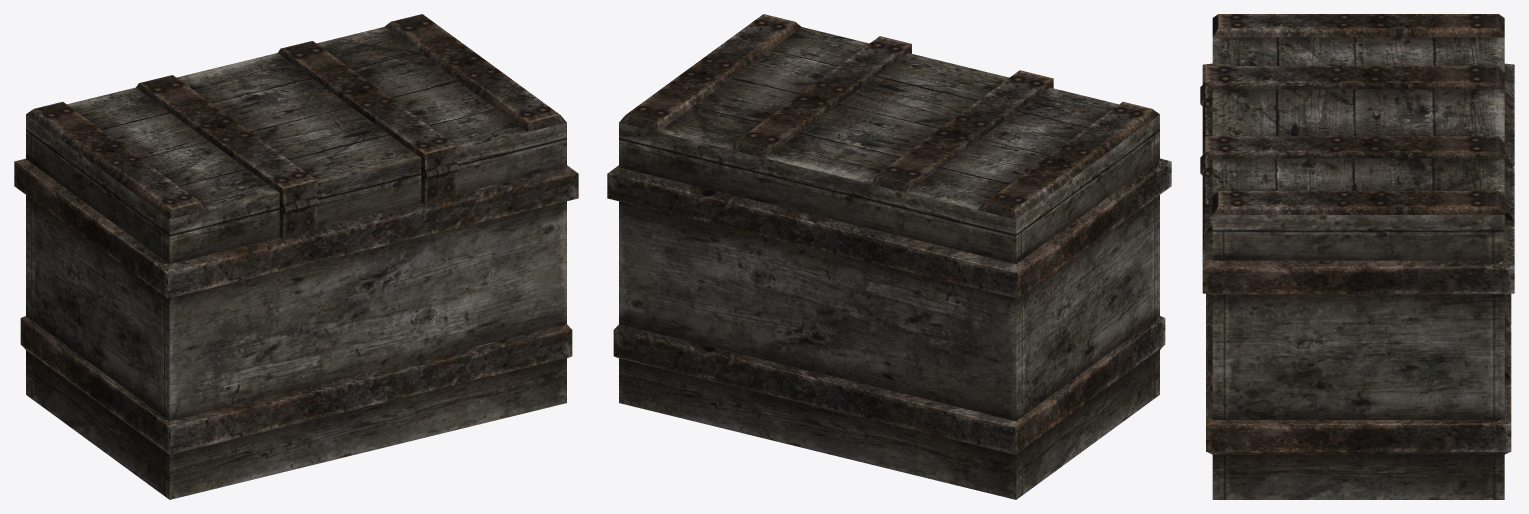
File: storage_box_wood02.dae
The picture shows the model from 3 angles, left to right: view 1: azimuth 30°, elevation 25°; view 2: azimuth 150°, elevation 25°; view 3: azimuth 270°, elevation 25°; orthographic projection.
Parts seen in each view (by area): view 1: pCube1; view 2: pCube1; view 3: pCube1.
Part boxes in pixels (x1=…): pCube1: x1=14, y1=14, x2=578, y2=499; pCube1: x1=607, y1=14, x2=1171, y2=499; pCube1: x1=1200, y1=14, x2=1514, y2=499.
Bounding box in the file's own units: 1.93 × 1.29 × 1.26.
